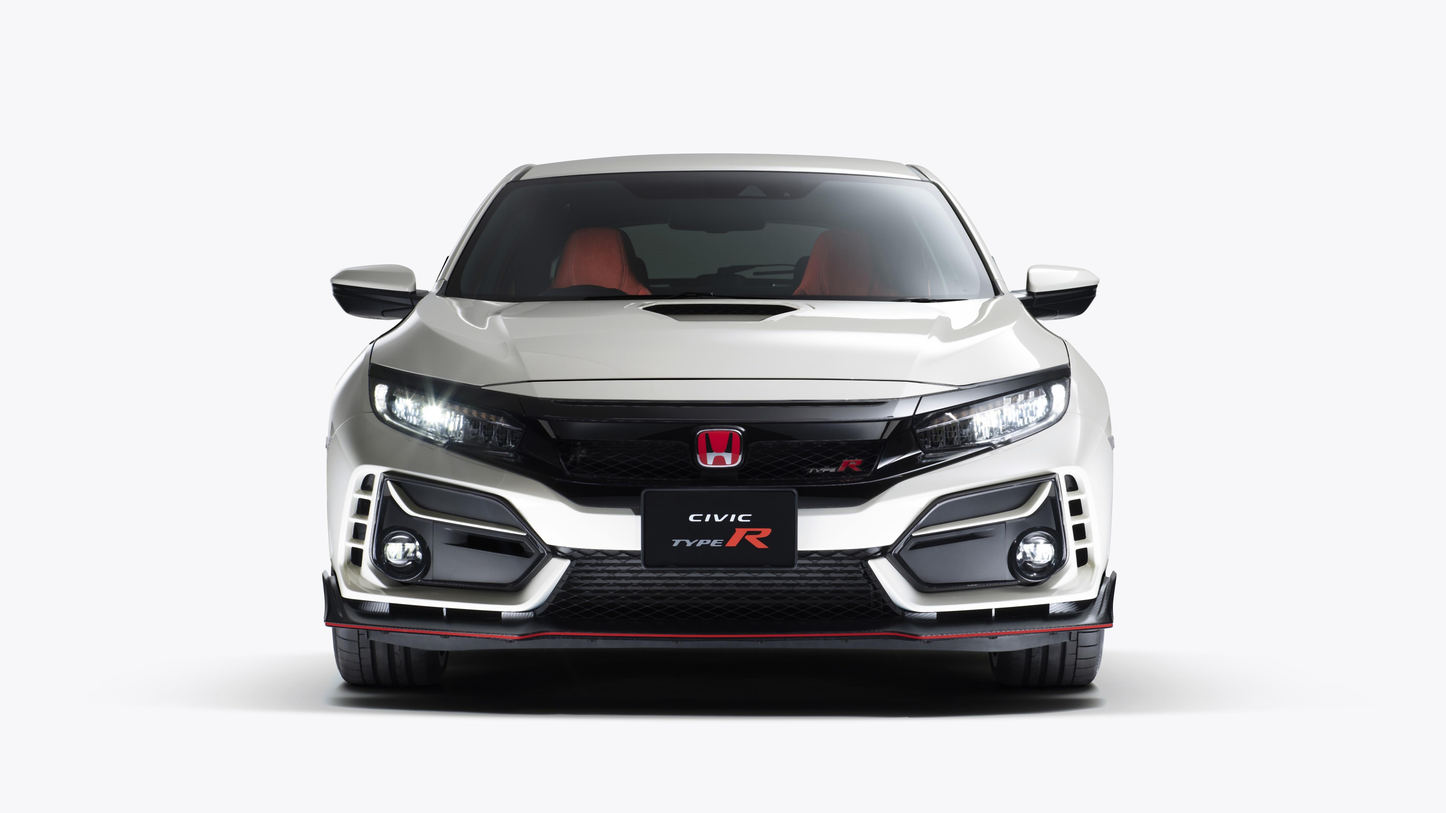Car hood: (367, 290, 1074, 419)
Front bumper: (312, 405, 1122, 660)
Headlight - -L-: (891, 359, 1072, 480)
Headlight - -R-: (367, 364, 535, 473)
Side mirror - -L-: (1004, 263, 1102, 322)
Side mirror - -R-: (326, 261, 430, 322)
